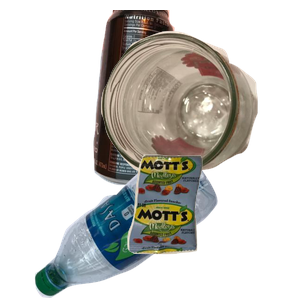glass: (98, 29, 300, 198)
metal: (91, 10, 258, 188)
plastic: (32, 154, 242, 300)
trash: (125, 152, 300, 300)
